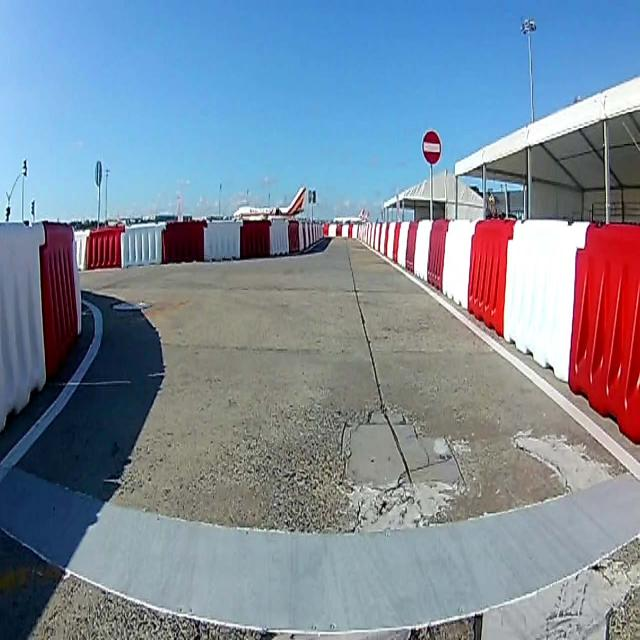girisyok: (423, 131, 443, 165)
